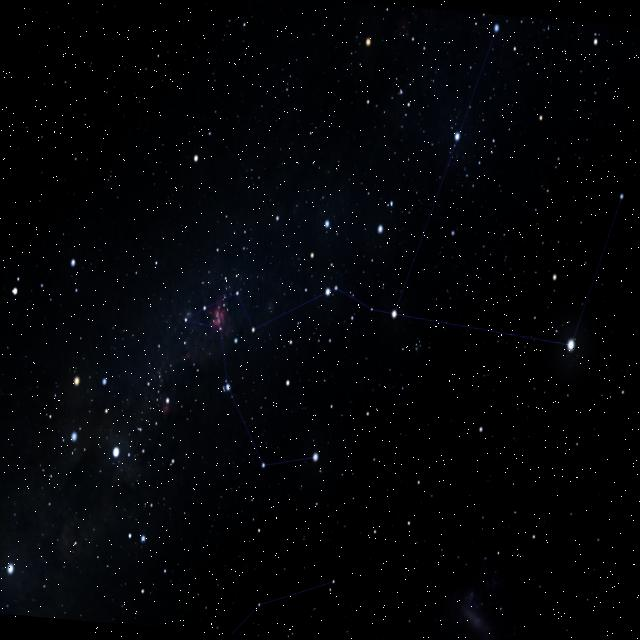Carina: (156, 0, 640, 517)
